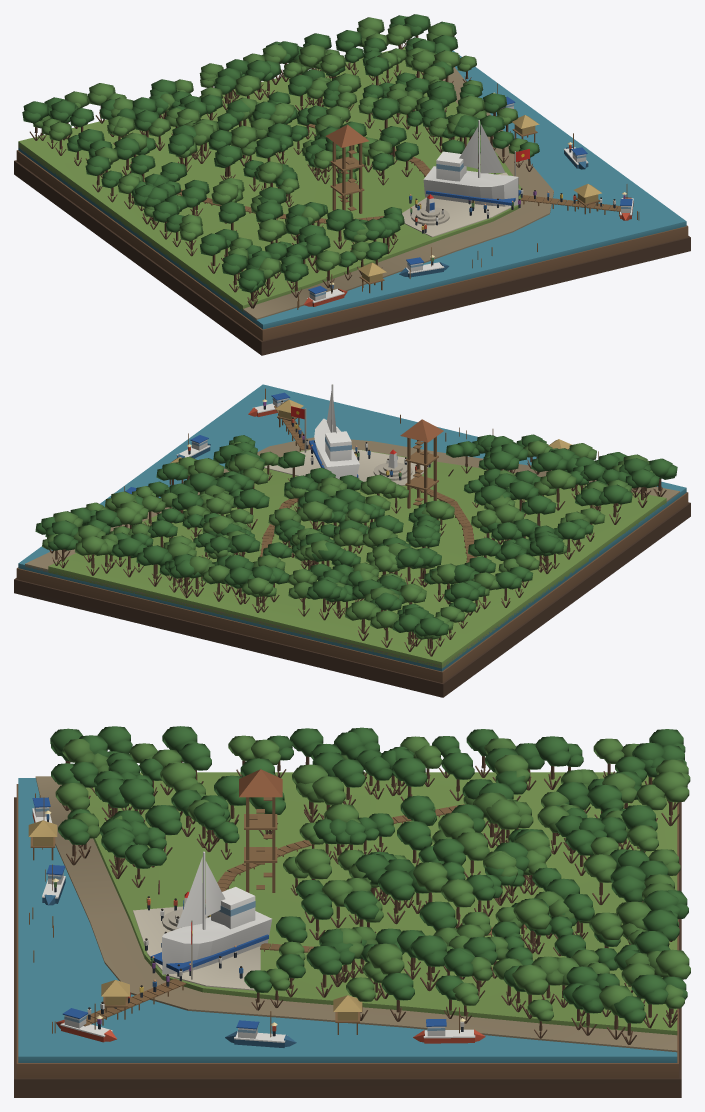
The model's file is mui-ca-mau.glb.
3 views of the same model, one above another, from view 1: azimuth 30°, elevation 25°; view 2: azimuth 150°, elevation 25°; view 3: azimuth 270°, elevation 25° (orthographic). The views are drawn at different scales.
Parts seen in each view (by area): view 1: CM_CM_base; view 2: CM_CM_base; view 3: CM_CM_base.
Part boxes in pixels (x1,y1,x2,y2): CM_CM_base: (14, 14, 690, 355); CM_CM_base: (14, 384, 690, 697); CM_CM_base: (14, 726, 690, 1097).
Size of the model in its own units: 92.8 by 24.8 by 93.29.
1 material, 1 textured.
